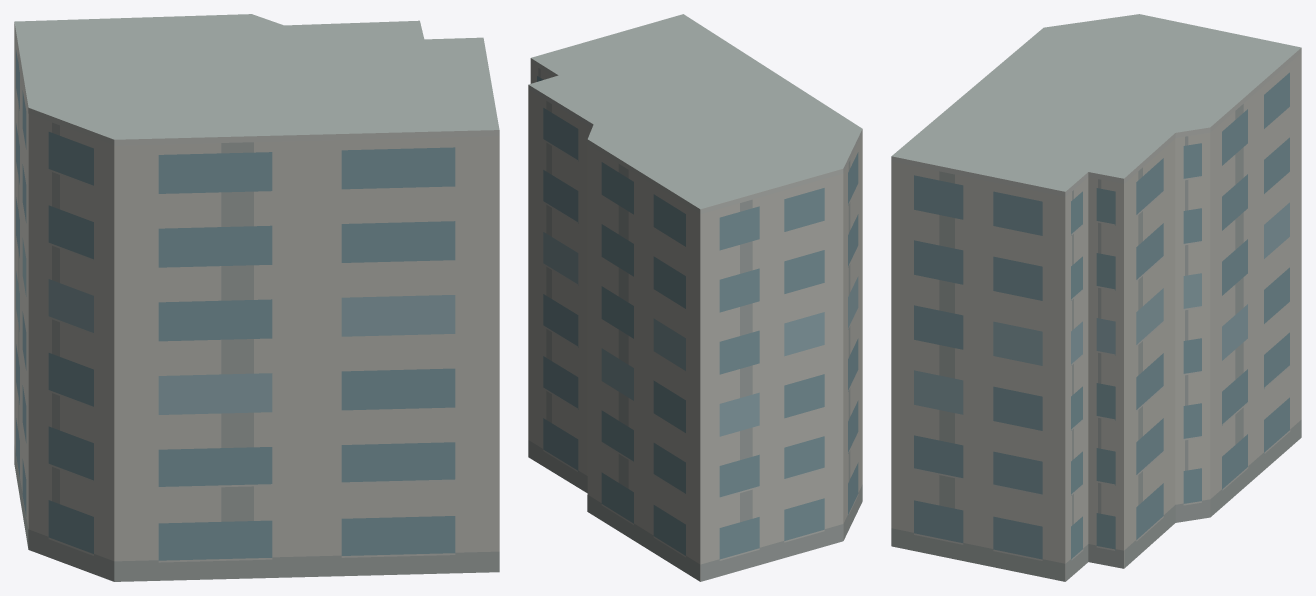
The model's file is residential-b8cff681-661a-4b16-ba41-f31b44b75437.glb.
3 renders of one model, left to right at view 1: azimuth 30°, elevation 25°; view 2: azimuth 150°, elevation 25°; view 3: azimuth 270°, elevation 25°, orthographic. The views are drawn at different scales.
Visible parts, largest first — view 1: residential-b8cff681-661a-4b16-ba41-f31b44b75437.tmp; view 2: residential-b8cff681-661a-4b16-ba41-f31b44b75437.tmp; view 3: residential-b8cff681-661a-4b16-ba41-f31b44b75437.tmp.
Part boxes in pixels (x1=…): residential-b8cff681-661a-4b16-ba41-f31b44b75437.tmp: x1=14, y1=14, x2=499, y2=581; residential-b8cff681-661a-4b16-ba41-f31b44b75437.tmp: x1=528, y1=14, x2=862, y2=581; residential-b8cff681-661a-4b16-ba41-f31b44b75437.tmp: x1=891, y1=14, x2=1301, y2=581.
Bounding box in the file's own units: 17.61 × 18 × 17.17.
